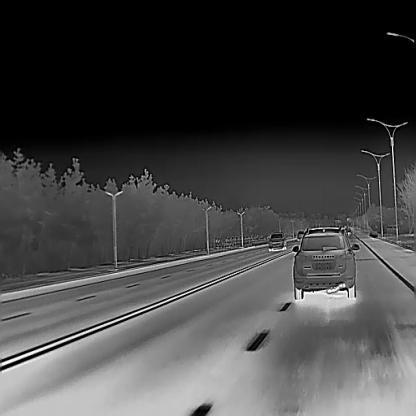car: (292, 225, 359, 298), (267, 232, 286, 250), (296, 229, 303, 240), (347, 229, 350, 235)
